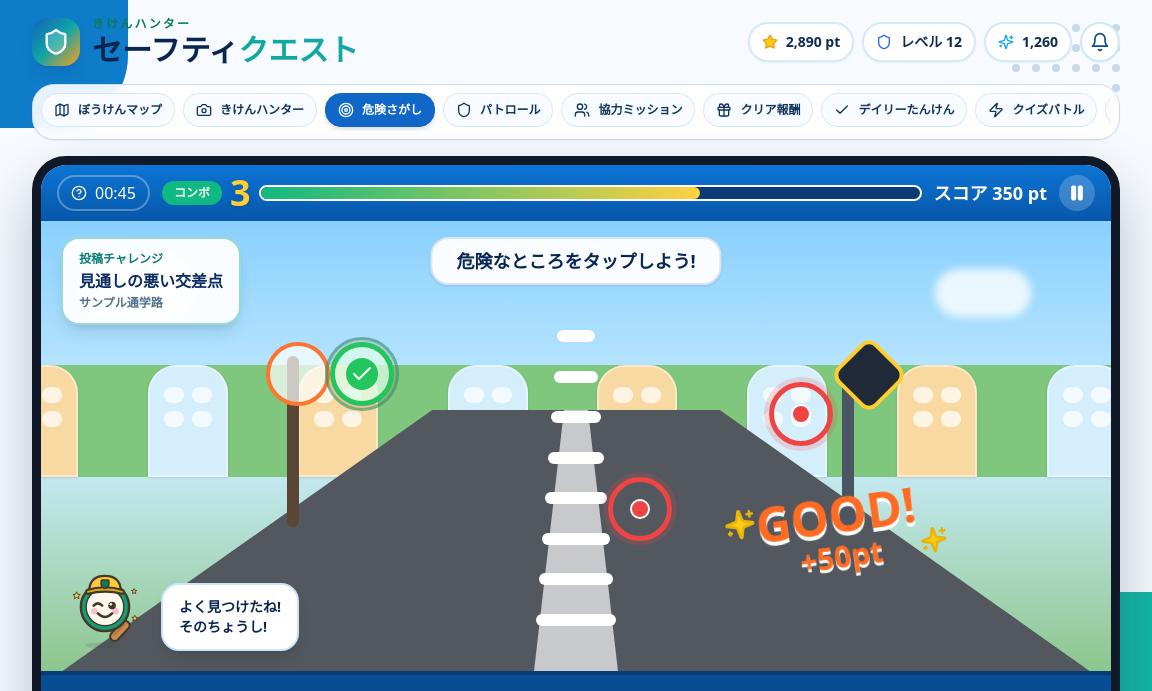
it: SafetyQuestClient › updates daily mission progress after clearing the core hazard and quiz loop
Earlier steps of the test are not shown.
Click the 2nd button named "危険ポイント" at (801, 414), box x1=769 y1=382 x2=833 y2=446
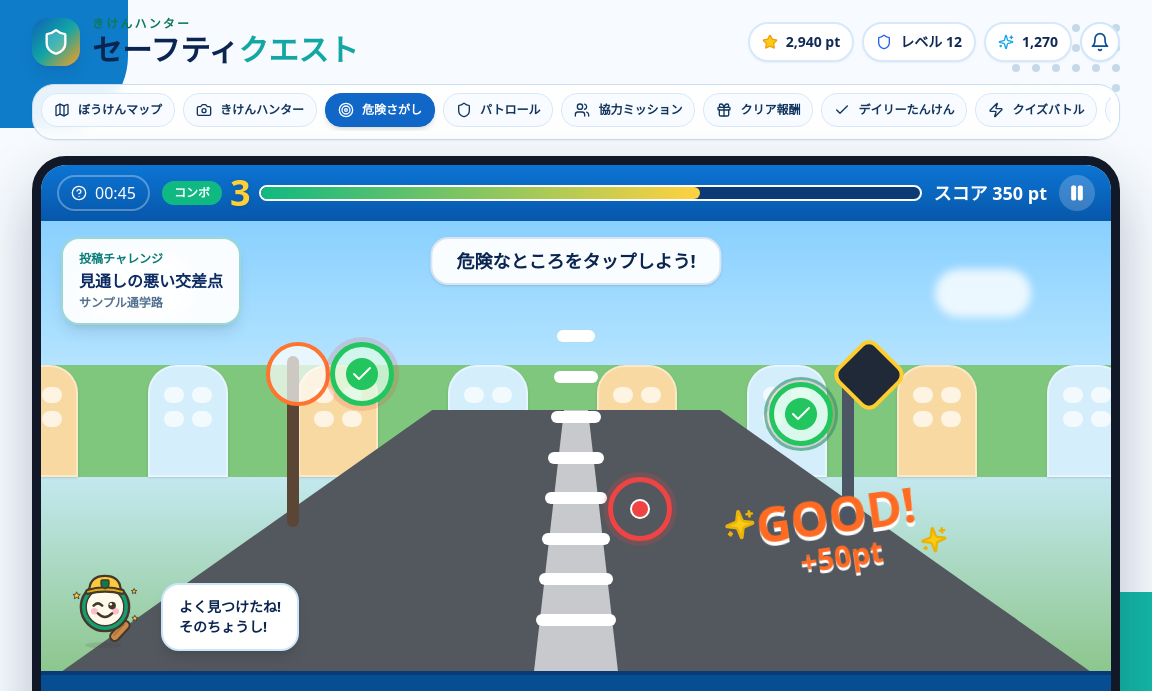
Click the 3rd button named "危険ポイント" at (640, 509), box x1=608 y1=477 x2=672 y2=541
(page scrolled)
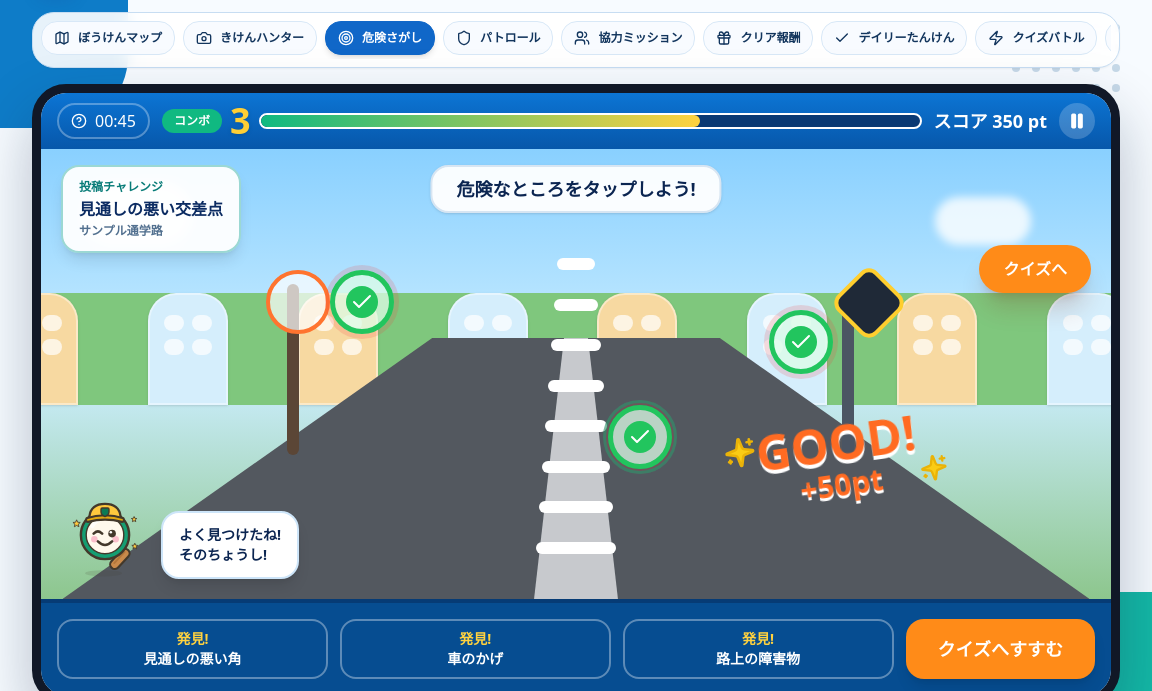
Click the button "クイズへすすむ" at (1000, 649), box x1=906 y1=619 x2=1095 y2=679
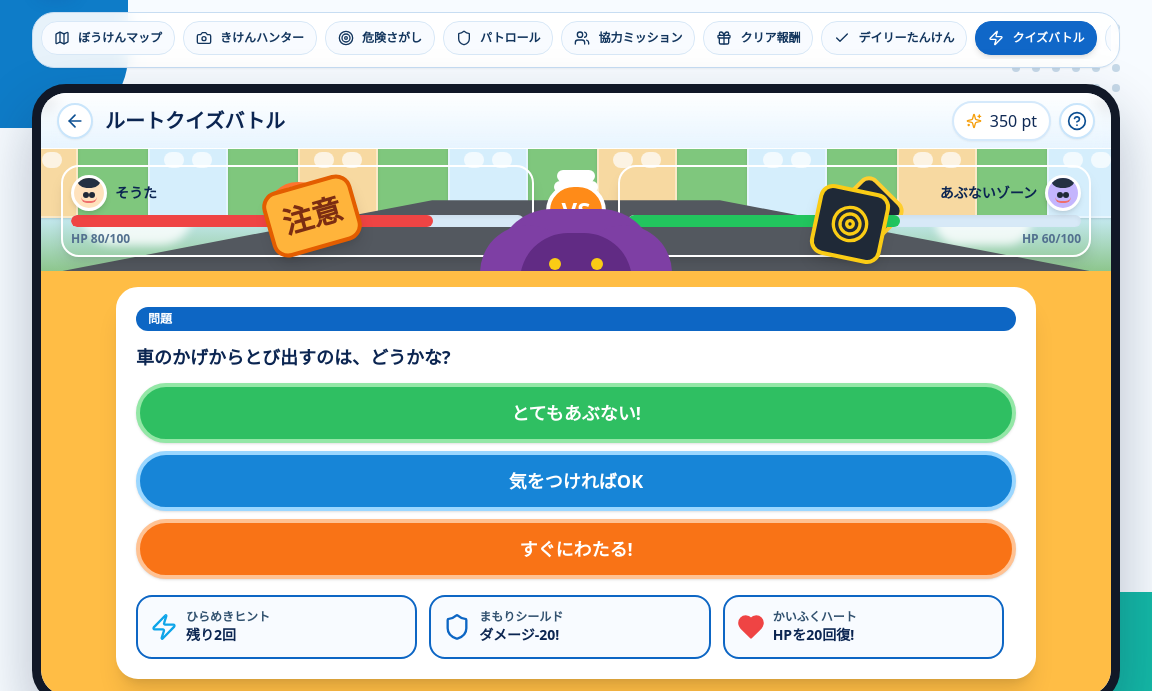
Click the button "とてもあぶない!" at (576, 413), box x1=136 y1=383 x2=1016 y2=443
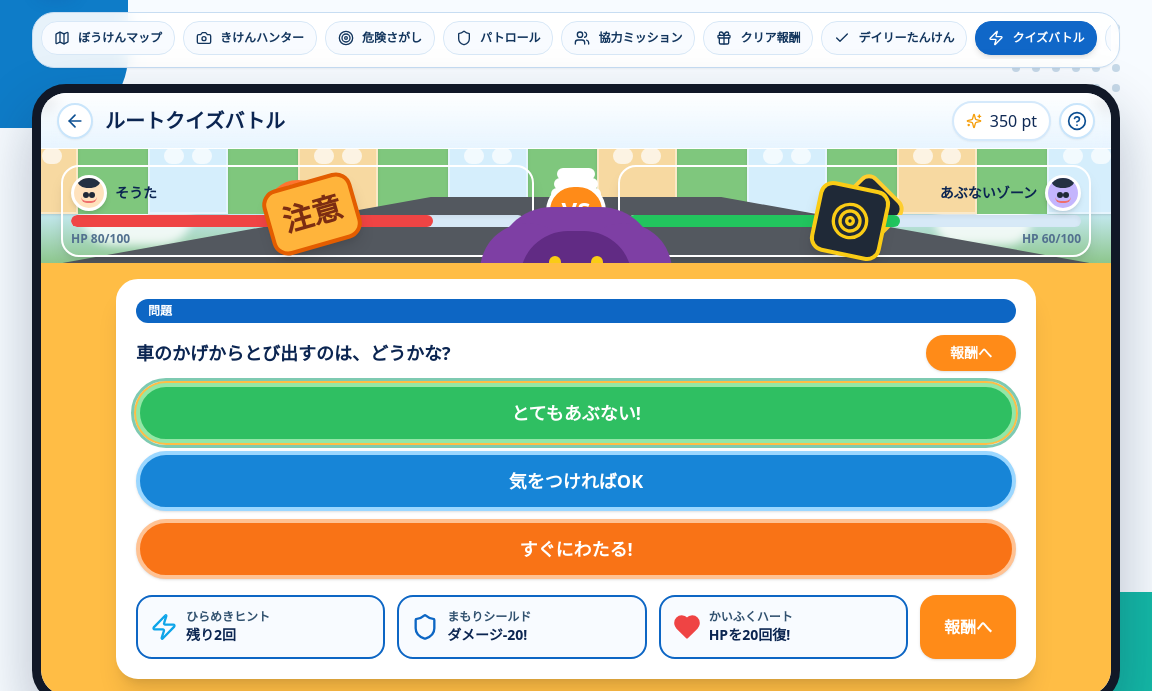
Click the button "報酬へ" in the row of "車のかげからとび出すのは、どうかな?" at (971, 353), box x1=926 y1=335 x2=1016 y2=371
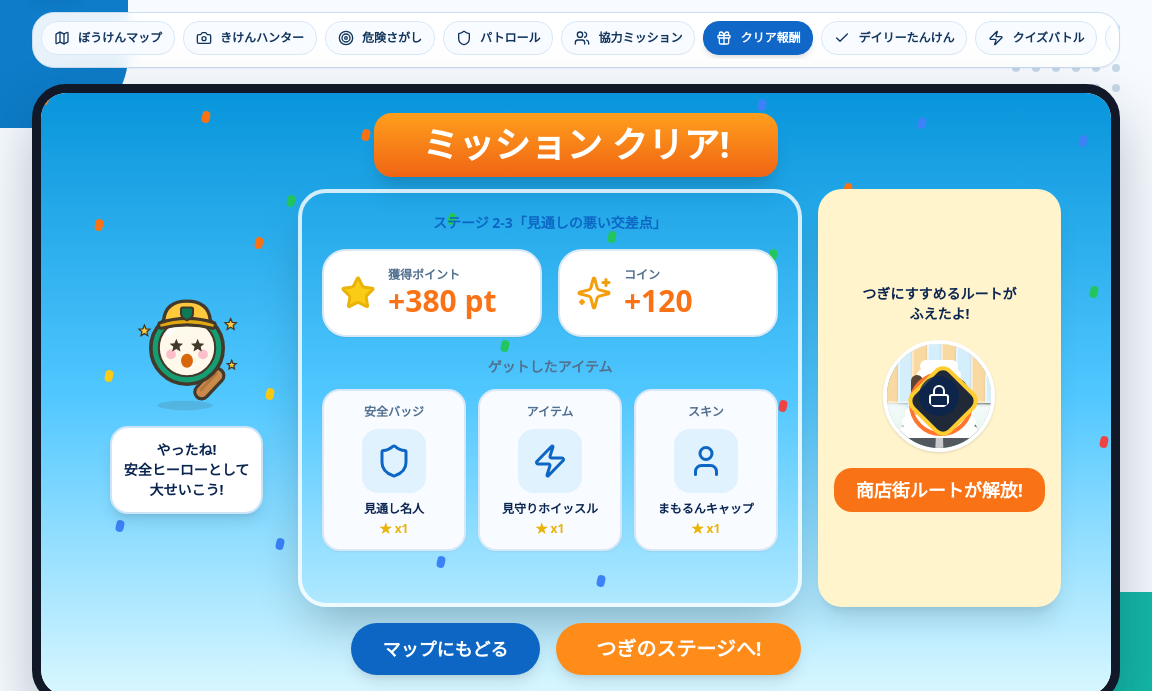
Expected: the text "ミッション クリア!" is shown, x1=374 y1=113 x2=778 y2=177
Click the button "つぎのステージへ!" at (679, 649), box x1=556 y1=623 x2=802 y2=675
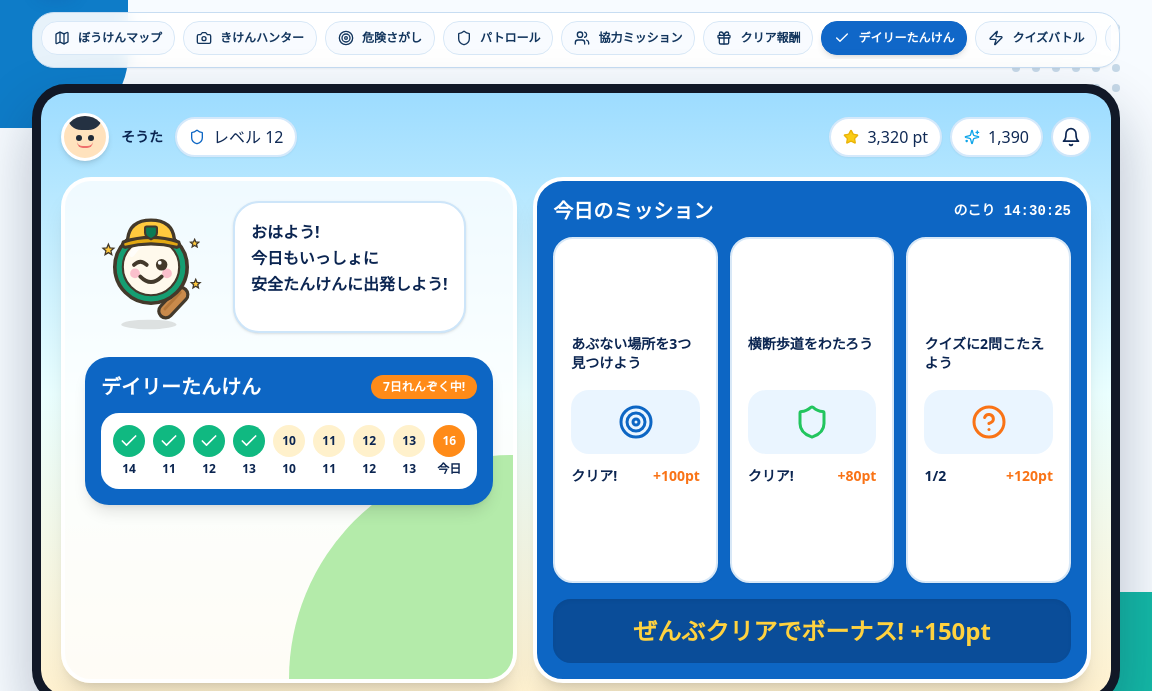
Expected: the button "あぶない場所を3つ見つけよう クリア! +100pt" is shown, x1=553 y1=237 x2=718 y2=583
Expected: the 1st text "クリア!" is shown, x1=571 y1=466 x2=617 y2=486
